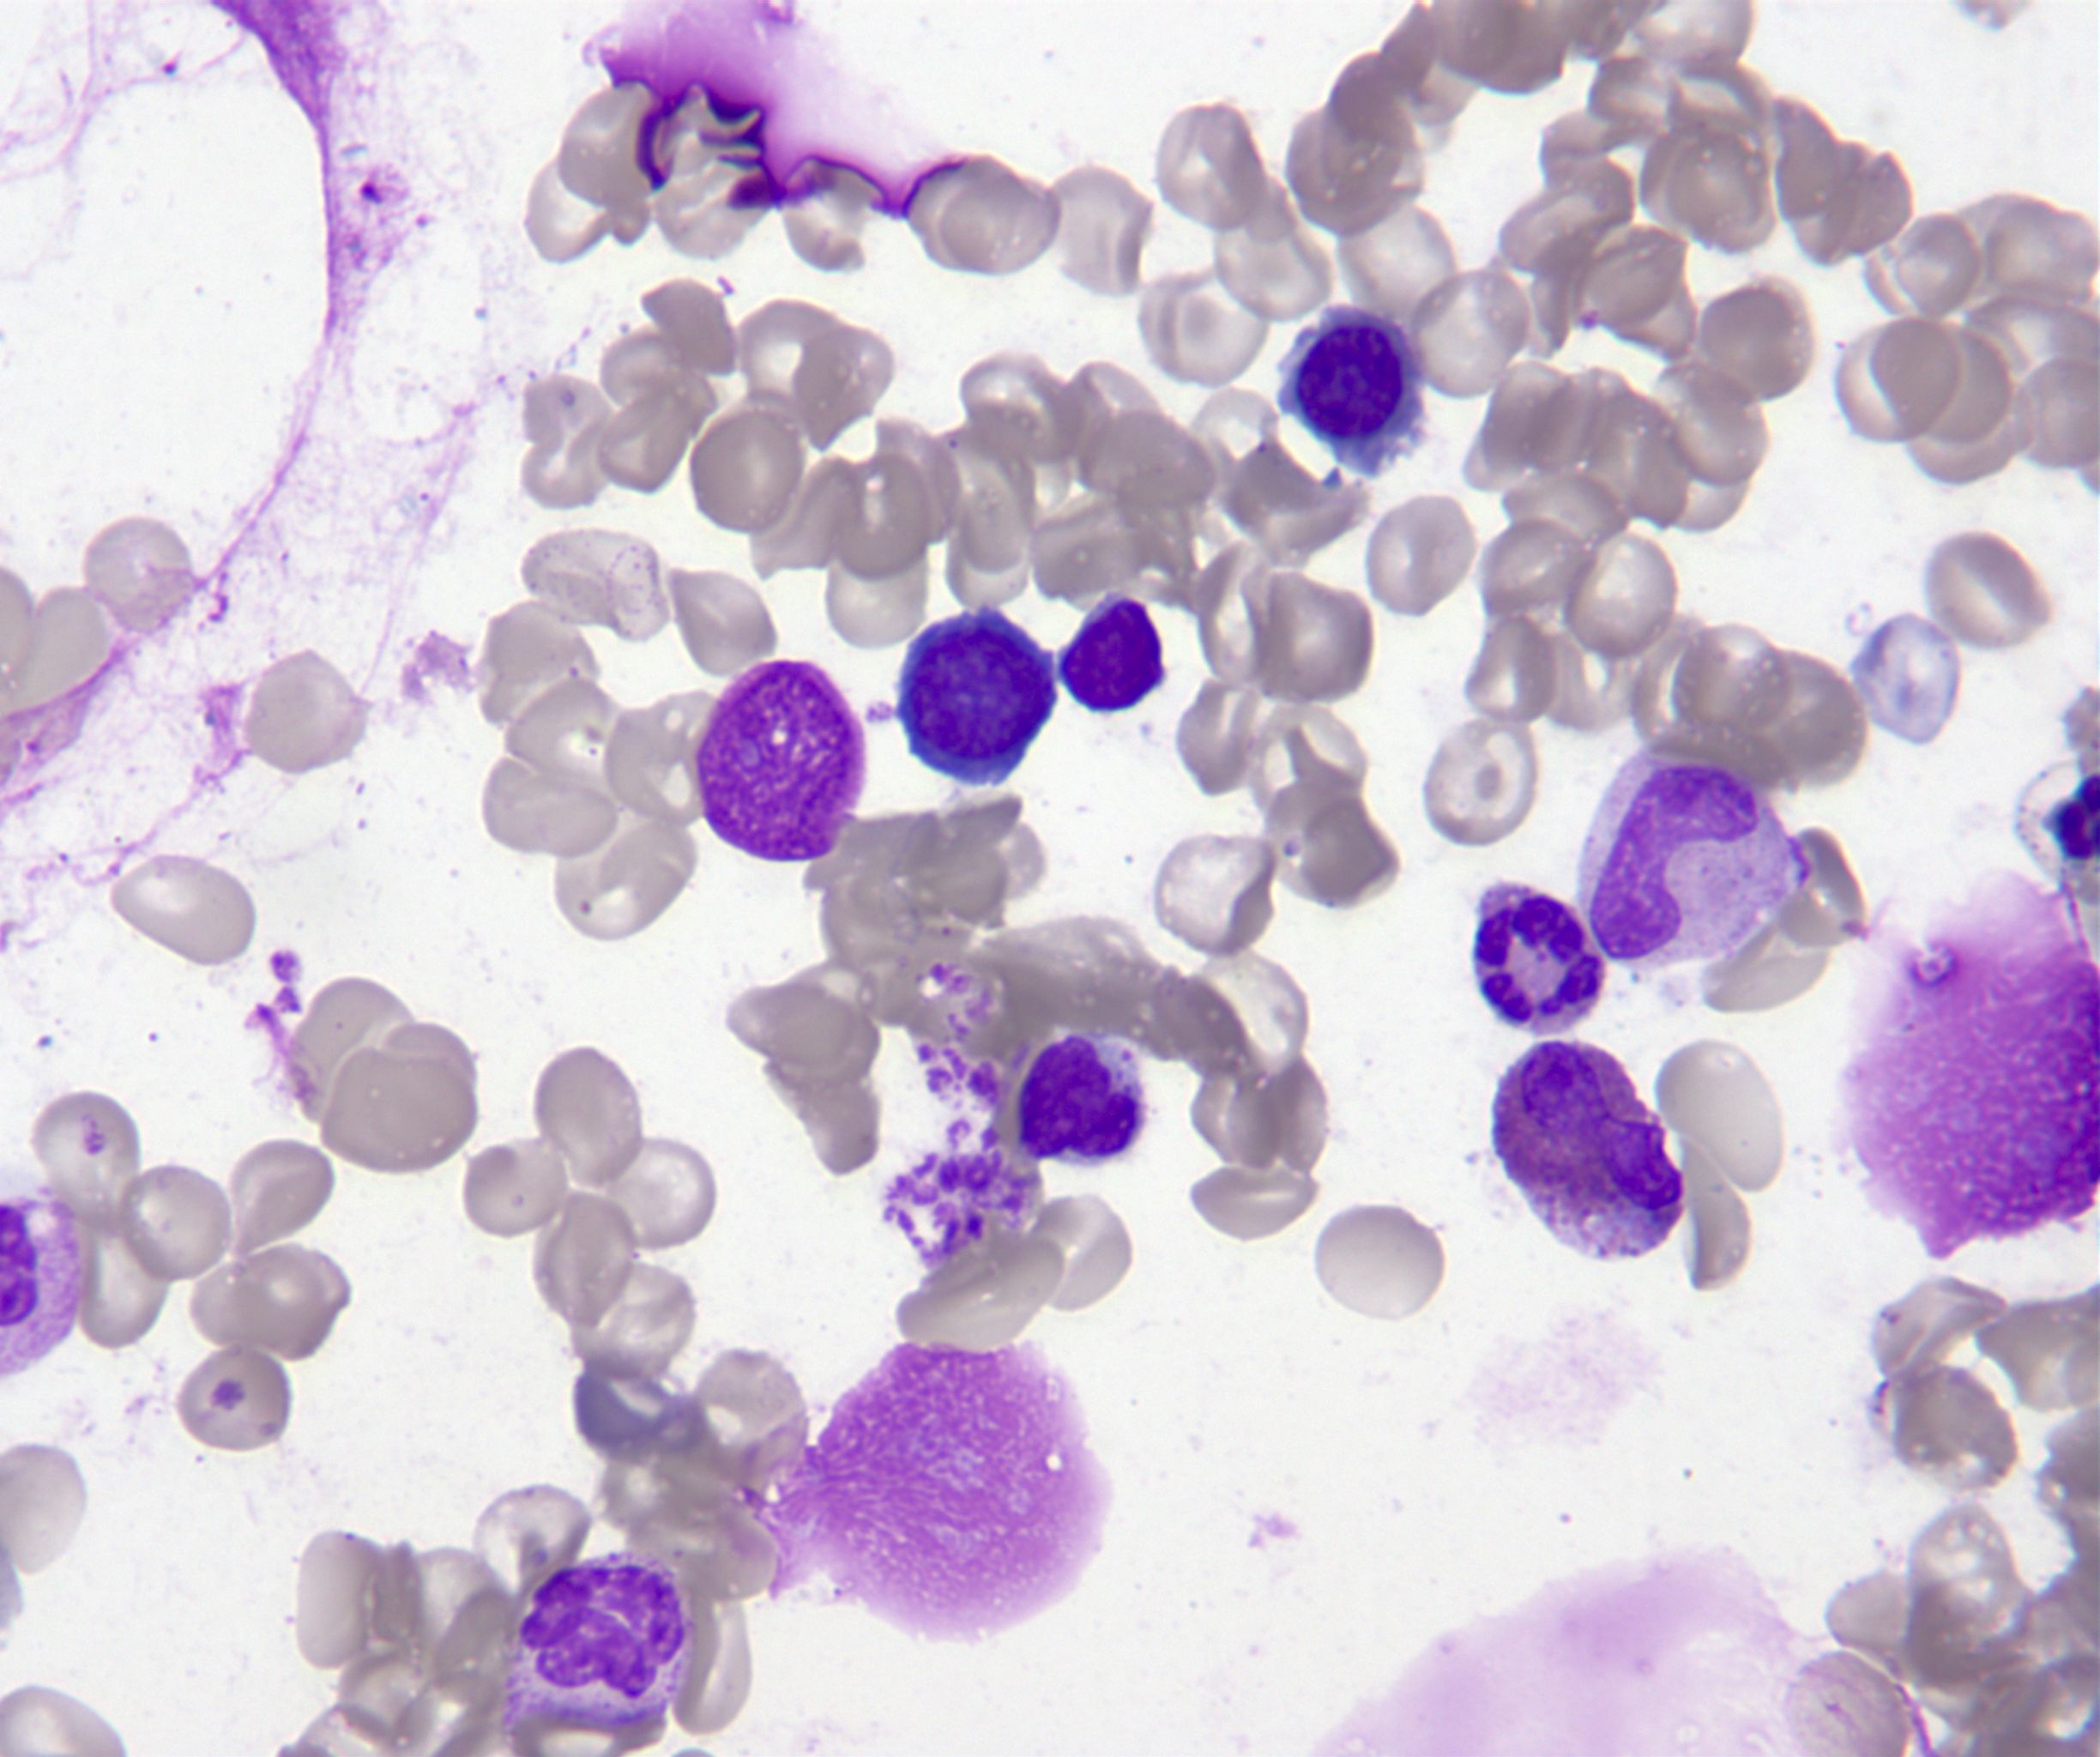23: (897, 607, 1057, 787)
24: (1277, 307, 1427, 480)
32: (1017, 1035, 1146, 1167), (1060, 593, 1165, 714)
4: (1578, 750, 1810, 968)
6: (501, 1553, 692, 1724), (1472, 881, 1605, 1036)
E3: (1493, 1042, 1683, 1260)
x: (733, 1343, 1109, 1645), (1842, 871, 2100, 1260), (692, 661, 865, 862), (2, 1195, 85, 1380)
